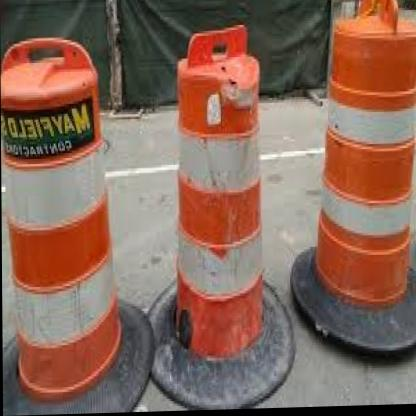obstacle: (0, 31, 121, 393), (171, 28, 264, 361), (313, 10, 415, 305)
